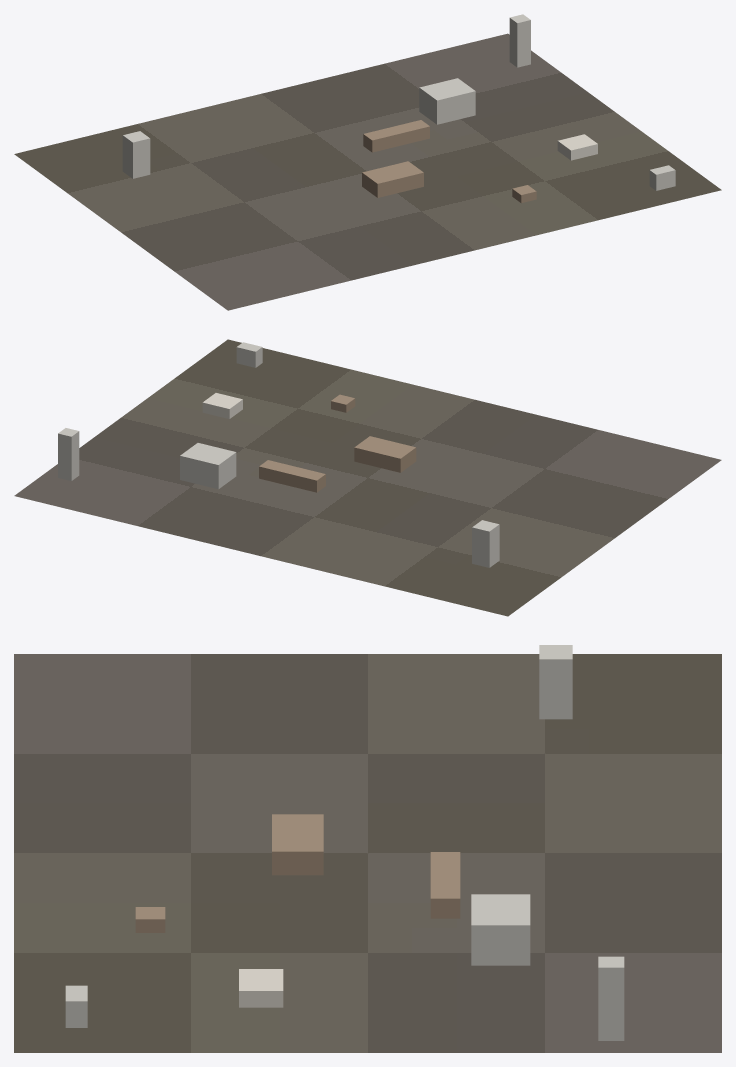
Rendered from scene-sample-harbor.glb.
3 views of the same model, one above another, from view 1: azimuth 30°, elevation 25°; view 2: azimuth 150°, elevation 25°; view 3: azimuth 270°, elevation 25° (orthographic). The views are drawn at different scales.
Visible parts, largest first — view 1: render/ground, render/lod0/customs-house, render/lod0/fish-market, render/lod0/ropewalk, render/lod0/watch-tower, render/lod0/lighthouse, render/lod0/salt-store, render/lod0/quay-gate; view 2: render/ground, render/lod0/customs-house, render/lod0/fish-market, render/lod0/ropewalk, render/lod0/watch-tower, render/lod0/lighthouse, render/lod0/salt-store, render/lod0/quay-gate; view 3: render/ground, render/lod0/customs-house, render/lod0/fish-market, render/lod0/watch-tower, render/lod0/lighthouse, render/lod0/ropewalk, render/lod0/salt-store, render/lod0/quay-gate, render/lod0/net-menders-hut.
Boxes of the visible parts, x1=… form: render/ground: x1=14, y1=33, x2=721, y2=310; render/lod0/customs-house: x1=419, y1=78, x2=475, y2=124; render/lod0/fish-market: x1=362, y1=161, x2=423, y2=197; render/lod0/ropewalk: x1=363, y1=120, x2=429, y2=152; render/lod0/watch-tower: x1=122, y1=131, x2=150, y2=178; render/lod0/lighthouse: x1=509, y1=14, x2=530, y2=67; render/lod0/salt-store: x1=557, y1=134, x2=597, y2=160; render/lod0/quay-gate: x1=649, y1=165, x2=675, y2=190; render/ground: x1=14, y1=339, x2=721, y2=616; render/lod0/customs-house: x1=180, y1=443, x2=236, y2=489; render/lod0/fish-market: x1=354, y1=436, x2=416, y2=472; render/lod0/ropewalk: x1=259, y1=460, x2=325, y2=492; render/lod0/watch-tower: x1=472, y1=520, x2=499, y2=567; render/lod0/lighthouse: x1=58, y1=428, x2=79, y2=480; render/lod0/salt-store: x1=202, y1=393, x2=242, y2=418; render/lod0/quay-gate: x1=236, y1=342, x2=262, y2=367; render/ground: x1=14, y1=654, x2=721, y2=1052; render/lod0/customs-house: x1=471, y1=894, x2=530, y2=965; render/lod0/fish-market: x1=272, y1=814, x2=323, y2=875; render/lod0/watch-tower: x1=539, y1=645, x2=572, y2=719; render/lod0/lighthouse: x1=598, y1=956, x2=624, y2=1040; render/lod0/ropewalk: x1=430, y1=852, x2=460, y2=918; render/lod0/salt-store: x1=239, y1=969, x2=283, y2=1007; render/lod0/quay-gate: x1=65, y1=985, x2=87, y2=1027; render/lod0/net-menders-hut: x1=135, y1=907, x2=165, y2=932.
Bounding box in the file's own units: 256 × 22 × 192.
4 materials, 1 textured.
